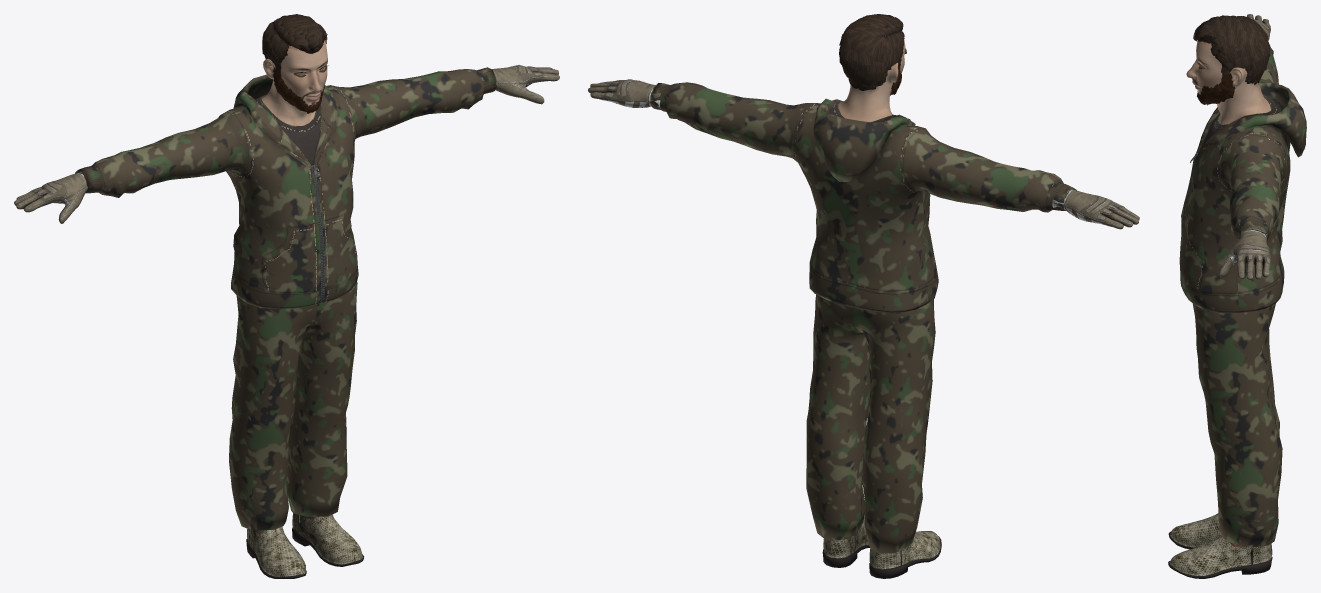
The picture shows the model from 3 angles, left to right: view 1: azimuth 30°, elevation 25°; view 2: azimuth 150°, elevation 25°; view 3: azimuth 270°, elevation 25°; orthographic projection.
Visible parts, largest first — view 1: Tops, Bottoms, Shoes, Gloves, Body, Hair, Beards; view 2: Tops, Bottoms, Hair, Gloves, Shoes, Body; view 3: Tops, Bottoms, Shoes, Hair, Body, Gloves, Beards.
Boxes of the visible parts, <box> form: Tops: <box>75,67,496,308</box>; Bottoms: <box>229,282,357,530</box>; Shoes: <box>246,513,363,578</box>; Gloves: <box>14,65,559,223</box>; Body: <box>261,31,327,125</box>; Hair: <box>262,14,327,73</box>; Beards: <box>272,67,324,113</box>; Tops: <box>650,82,1076,313</box>; Bottoms: <box>806,294,935,553</box>; Hair: <box>839,14,904,90</box>; Gloves: <box>588,79,1139,229</box>; Shoes: <box>822,517,941,578</box>; Body: <box>838,31,905,122</box>; Tops: <box>1179,46,1306,313</box>; Bottoms: <box>1192,303,1282,546</box>; Shoes: <box>1168,513,1272,578</box>; Hair: <box>1193,15,1270,84</box>; Body: <box>1186,41,1270,124</box>; Gloves: <box>1219,14,1270,280</box>; Beards: <box>1197,73,1235,105</box>.
Size of the model in its own units: 194 by 183 by 42.84.
7 materials, 7 textured.
